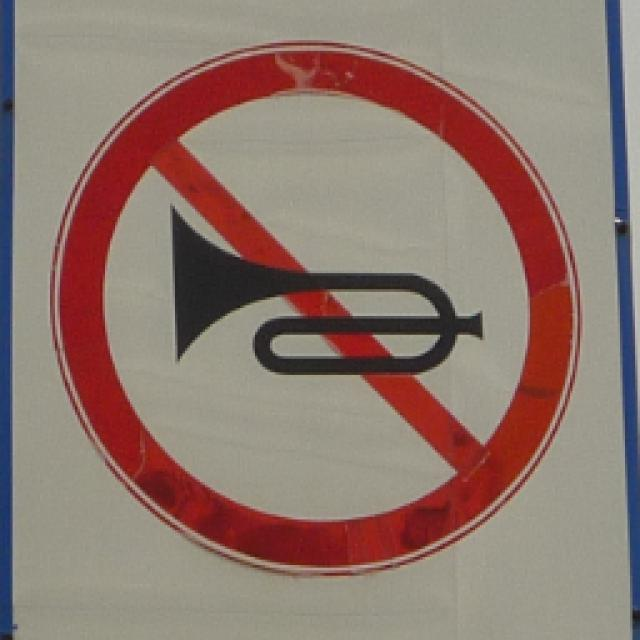No Horn: (52, 37, 594, 592)
